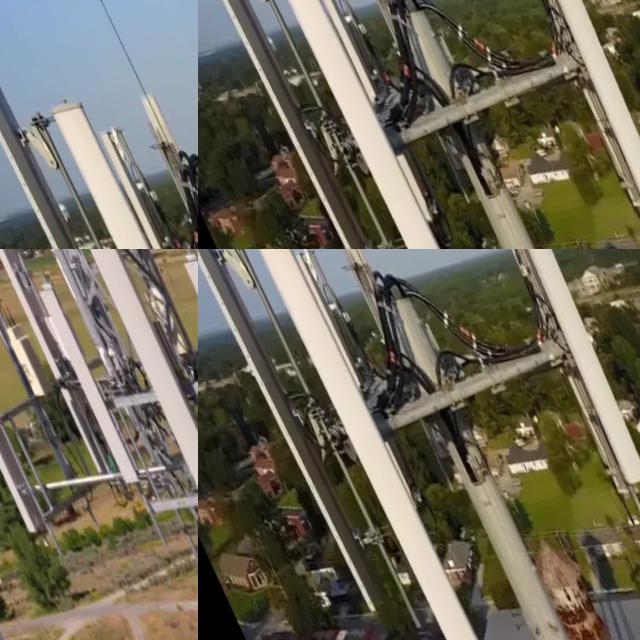GSM Antenna: (239, 249, 484, 640), (198, 249, 386, 625), (236, 0, 499, 249), (198, 0, 399, 249), (458, 249, 640, 488), (473, 249, 630, 495), (0, 52, 191, 249), (69, 249, 198, 537), (461, 0, 640, 206), (301, 0, 441, 231), (28, 76, 198, 249), (490, 0, 635, 188), (28, 273, 148, 500), (0, 249, 110, 480), (315, 249, 445, 438), (0, 257, 78, 486), (0, 262, 50, 551), (171, 249, 198, 461), (157, 249, 198, 387)
